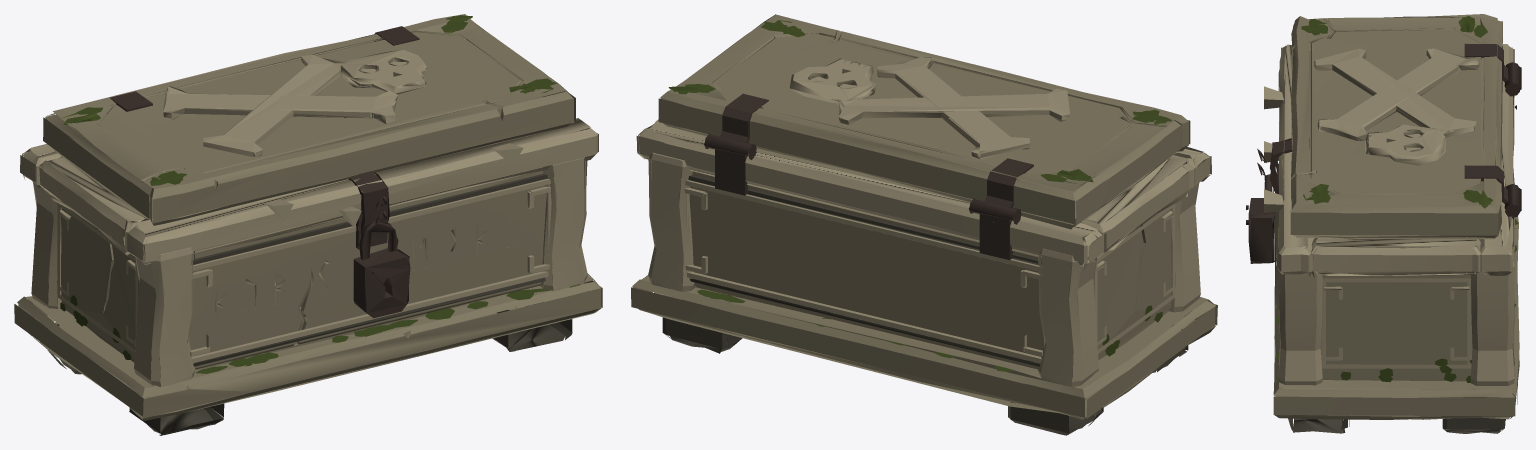
File: sarcophagus.glb
3 renders of one model, left to right at view 1: azimuth 30°, elevation 25°; view 2: azimuth 150°, elevation 25°; view 3: azimuth 270°, elevation 25°, orthographic. The views are drawn at different scales.
Parts seen in each view (by area): view 1: Ancient skull relief_export; view 2: Ancient skull relief_export; view 3: Ancient skull relief_export.
Boxes of the visible parts, <box> form: Ancient skull relief_export: <box>14,14,602,435</box>; Ancient skull relief_export: <box>631,14,1217,435</box>; Ancient skull relief_export: <box>1246,14,1521,433</box>.
Bounding box in the file's own units: 2.3 × 1.23 × 1.27.
